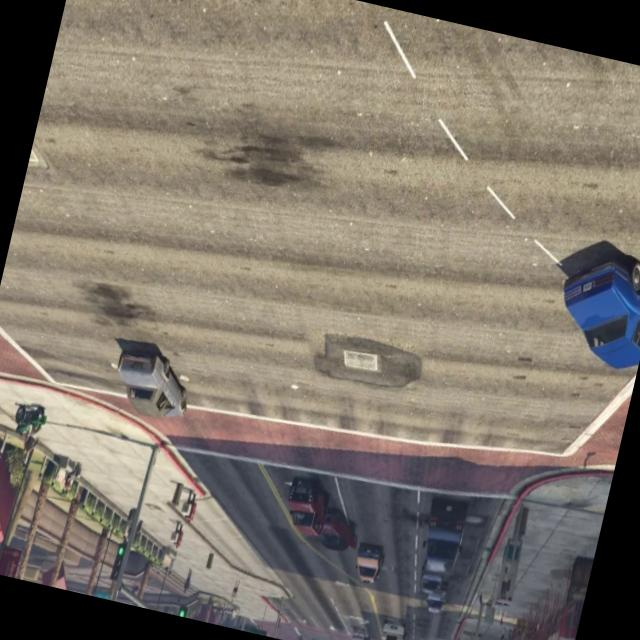Green-Signal: (105, 528, 131, 588), (174, 594, 192, 618), (246, 620, 271, 636)
